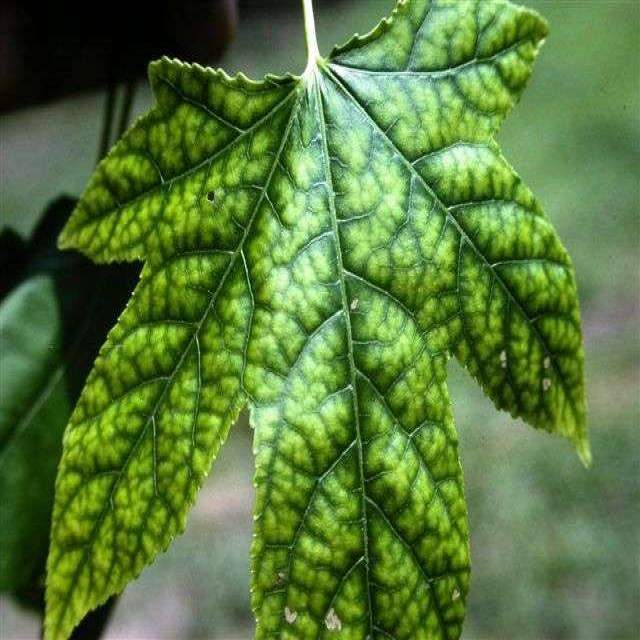Chlorosis: (47, 1, 600, 640)
